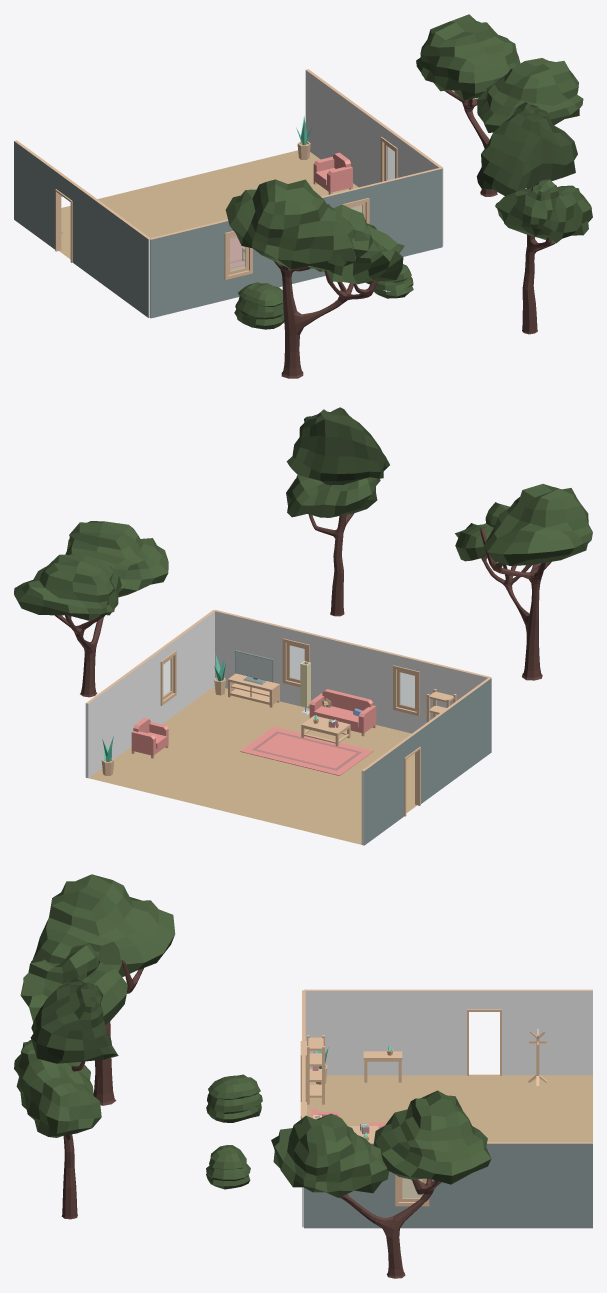
File: env_living_room.glb
The picture shows the model from 3 angles, top to bottom: view 1: azimuth 30°, elevation 25°; view 2: azimuth 150°, elevation 25°; view 3: azimuth 270°, elevation 25°; orthographic projection. The views are drawn at different scales.
Visible parts, largest first — view 1: wall(Clone) (×9), CommonTree_2, CommonTree_3, CommonTree_1, floor_0, wallWindow(Clone) (×3), wallDoorway(Clone), Bush_1, loungeChair(Clone), Bush_2, window; view 2: floor_0, wall(Clone) (×9), CommonTree_1, CommonTree_2, CommonTree_3, wallWindow(Clone) (×3), rugRectangle(Clone), wallDoorway(Clone), loungeSofa(Clone), window (×2), loungeChair(Clone), cabinetTelevision(Clone) (+2 smaller); view 3: wall(Clone) (×6), CommonTree_1, CommonTree_2, floor_0, CommonTree_3, wallDoorway(Clone), wallWindow(Clone), Bush_1, Bush_2, bookcaseOpen(Clone), sideTable(Clone).
Boxes of the visible parts, x1,y1,x2,y2 form: wall(Clone) (×9): [14, 69, 443, 318]; CommonTree_2: [225, 179, 404, 378]; CommonTree_3: [476, 102, 592, 334]; CommonTree_1: [416, 14, 583, 196]; floor_0: [59, 150, 361, 270]; wallWindow(Clone) (×3): [208, 118, 408, 304]; wallDoorway(Clone): [47, 165, 83, 268]; Bush_1: [234, 282, 284, 329]; loungeChair(Clone): [313, 152, 352, 194]; Bush_2: [374, 264, 413, 298]; window: [228, 234, 248, 274]; floor_0: [89, 686, 417, 844]; wall(Clone) (×9): [85, 610, 491, 845]; CommonTree_1: [14, 521, 168, 697]; CommonTree_2: [455, 484, 592, 680]; CommonTree_3: [286, 407, 389, 616]; wallWindow(Clone) (×3): [150, 623, 435, 733]; rugRectangle(Clone): [240, 726, 373, 775]; wallDoorway(Clone): [394, 724, 427, 821]; loungeSofa(Clone): [309, 689, 376, 736]; window (×2): [286, 643, 416, 711]; loungeChair(Clone): [131, 718, 168, 758]; cabinetTelevision(Clone): [228, 673, 279, 707]; wall(Clone) (×6): [304, 989, 592, 1228]; CommonTree_1: [271, 1090, 491, 1278]; CommonTree_2: [20, 874, 175, 1105]; floor_0: [307, 1074, 592, 1197]; CommonTree_3: [14, 978, 118, 1219]; wallDoorway(Clone): [448, 989, 520, 1075]; wallWindow(Clone): [376, 1171, 448, 1228]; Bush_1: [206, 1074, 262, 1122]; Bush_2: [206, 1145, 250, 1189]; bookcaseOpen(Clone): [307, 1035, 324, 1104]; sideTable(Clone): [363, 1051, 402, 1082].
Size of what is drawn, in the model's own units: 15.84 by 7.6 by 16.82.
